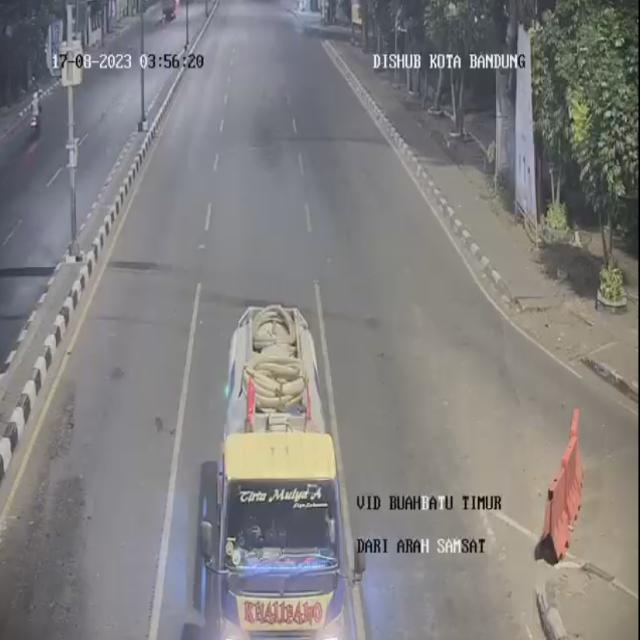truck: (197, 297, 362, 640)
